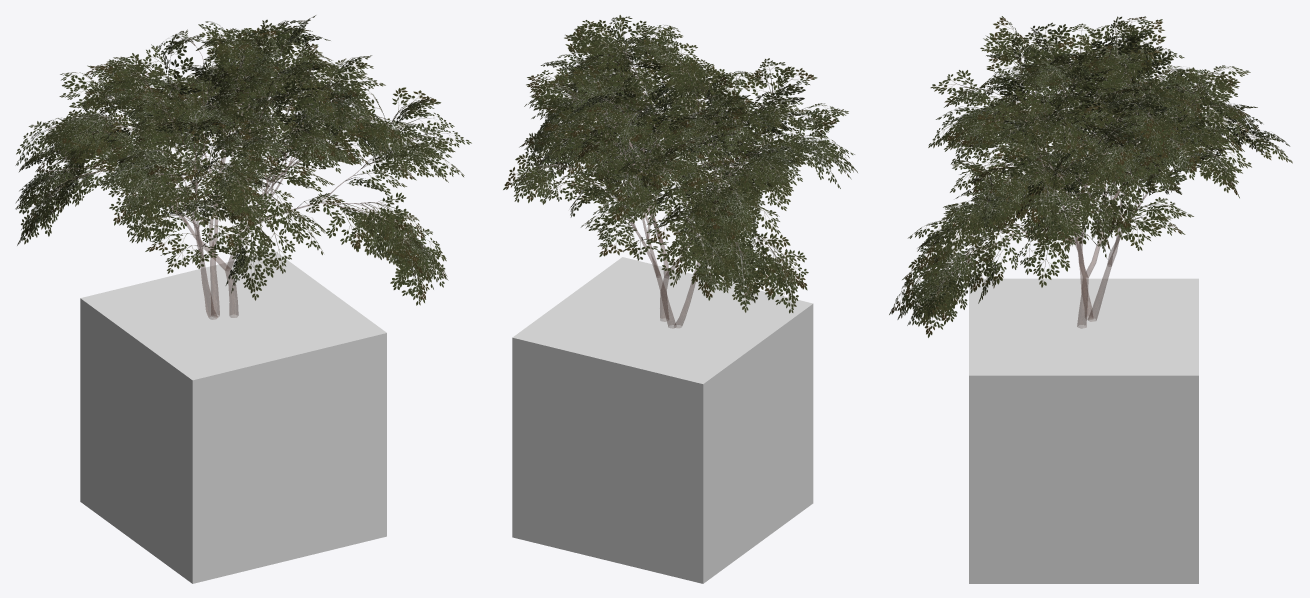
File: tree_blender.glb
3 views of the same model, side by side, from view 1: azimuth 30°, elevation 25°; view 2: azimuth 150°, elevation 25°; view 3: azimuth 270°, elevation 25° (orthographic). The views are drawn at different scales.
Visible parts, largest first — view 1: Cube, Tree; view 2: Cube, Tree; view 3: Cube, Tree.
Boxes of the visible parts, <box> form: Cube: <box>80,251,386,583</box>; Tree: <box>15,15,471,319</box>; Cube: <box>512,257,813,583</box>; Tree: <box>503,15,857,328</box>; Cube: <box>969,278,1198,583</box>; Tree: <box>889,16,1292,337</box>.
Bounding box in the file's own units: 3.63 × 4.82 × 3.55.
3 materials, 2 textured.
